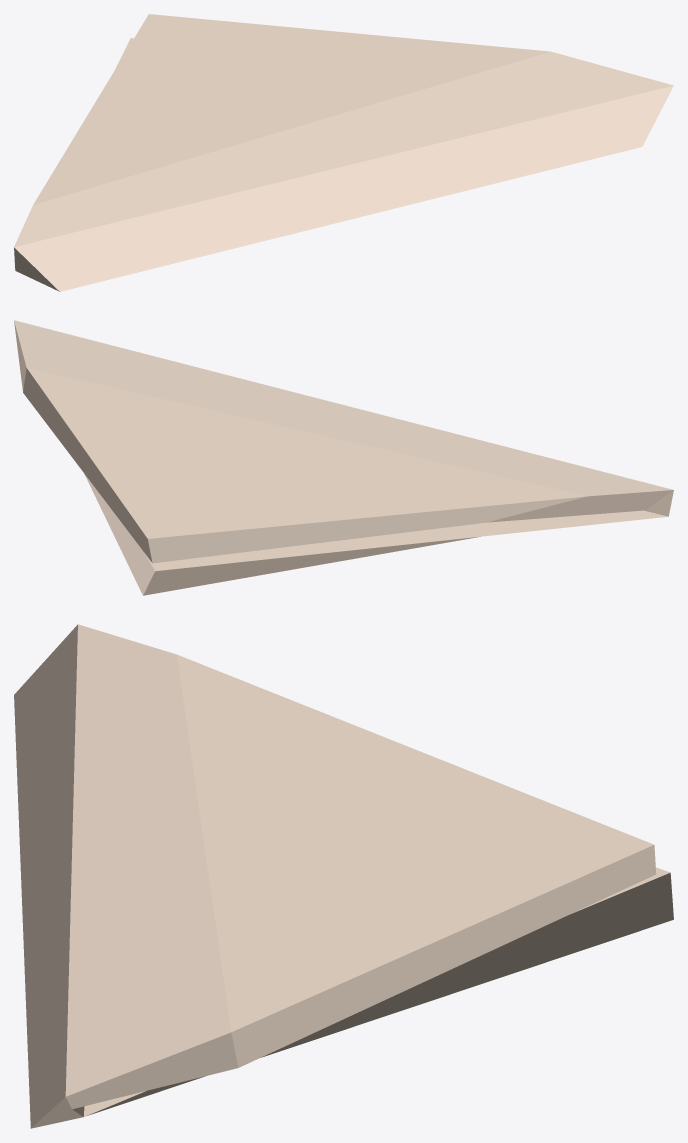
The model's file is furniture_napkin-triangle.fbx.
The picture shows the model from 3 angles, top to bottom: view 1: azimuth 30°, elevation 25°; view 2: azimuth 150°, elevation 25°; view 3: azimuth 270°, elevation 25°; orthographic projection. The views are drawn at different scales.
Visible parts, largest first — view 1: furniture_napkin_triangle; view 2: furniture_napkin_triangle; view 3: furniture_napkin_triangle.
Boxes of the visible parts, <box> form: furniture_napkin_triangle: <box>14,14,673,291</box>; furniture_napkin_triangle: <box>14,320,673,595</box>; furniture_napkin_triangle: <box>14,624,673,1128</box>.
Bounding box in the file's own units: 200 × 15.45 × 116.
